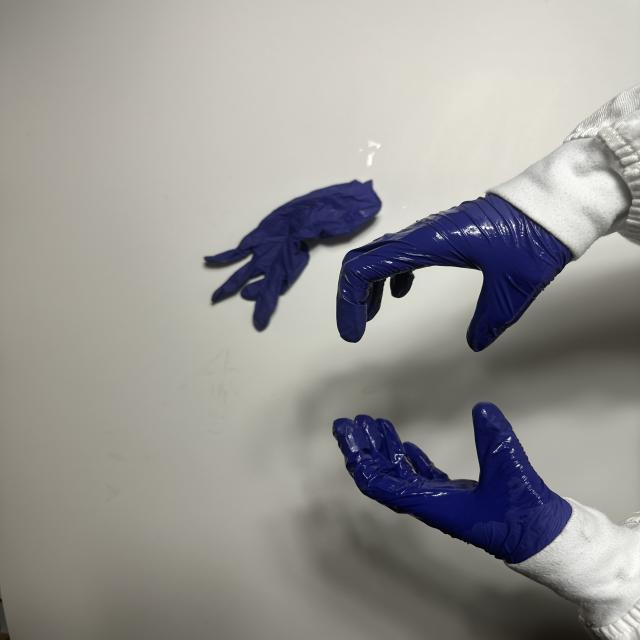gloves_contaminated: (334, 402, 572, 564), (337, 196, 571, 351)
